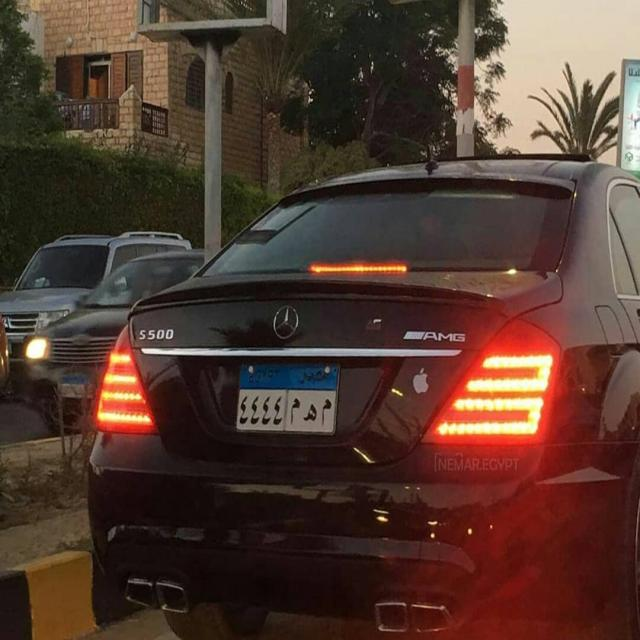License Plate: (231, 358, 341, 437)
